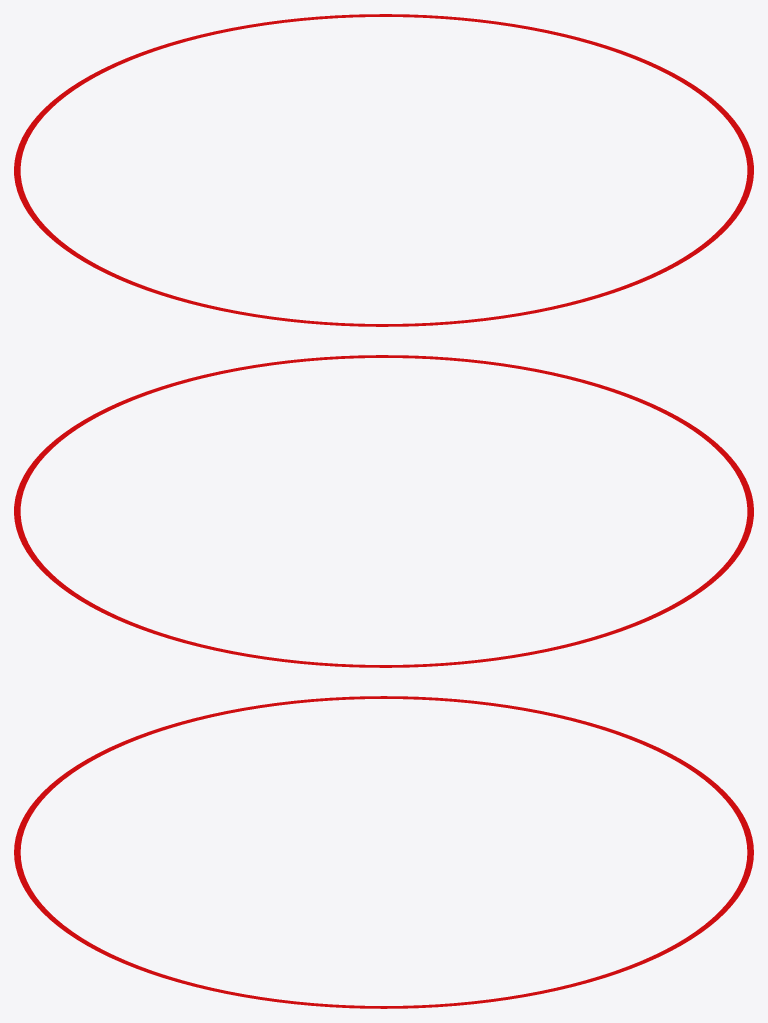
Rendered from ring.fbx.
3 views of the same model, one above another, from view 1: azimuth 30°, elevation 25°; view 2: azimuth 150°, elevation 25°; view 3: azimuth 270°, elevation 25° (orthographic).
Parts seen in each view (by area): view 1: Circle; view 2: Circle; view 3: Circle.
Part boxes in pixels (bbox=[...]): Circle: bbox=[14, 14, 753, 326]; Circle: bbox=[14, 355, 753, 667]; Circle: bbox=[14, 696, 753, 1008].
Size of the model in its own units: 200 by 3.25e-05 by 200.
